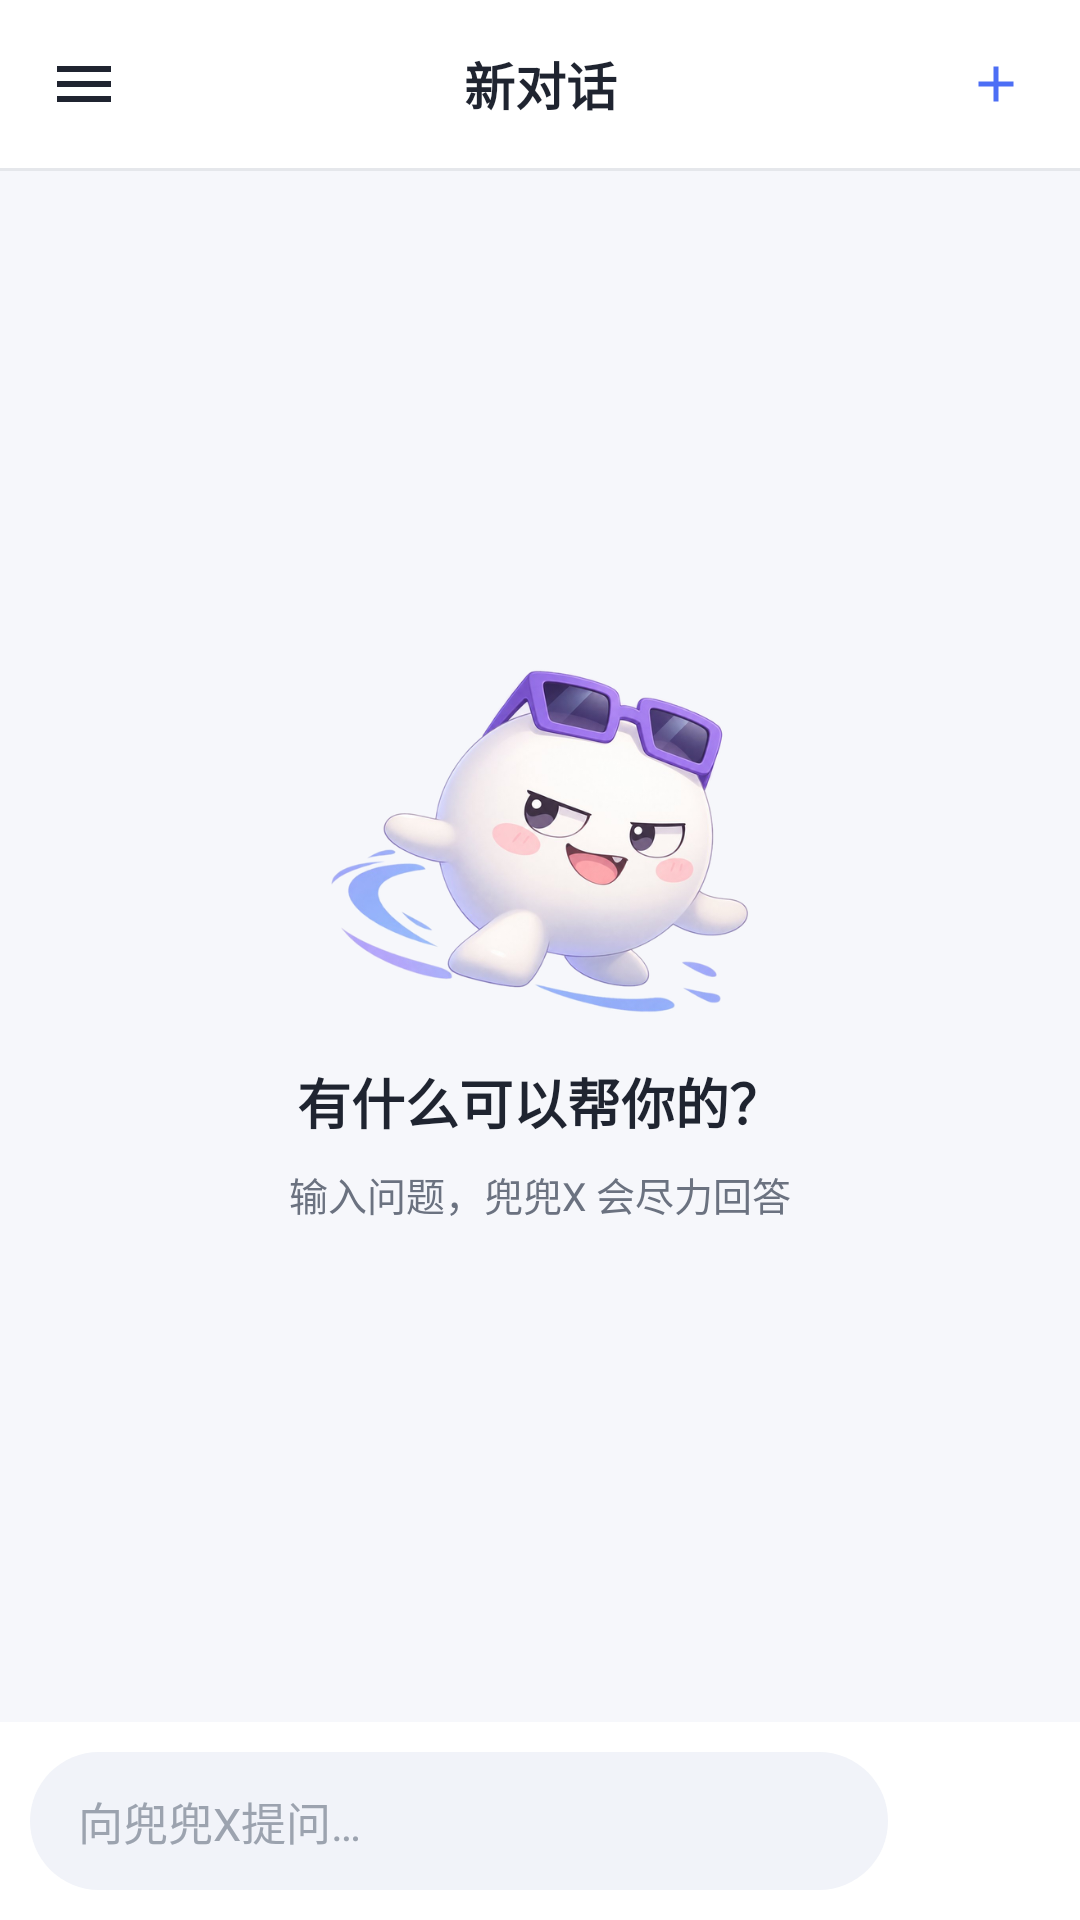

Icon bounding boxes for this 1080px×1920px phone screenshot, format (left=x1, top=y1, right=x2, bottom=y2):
历史对话: (left=57, top=66, right=111, bottom=102)
